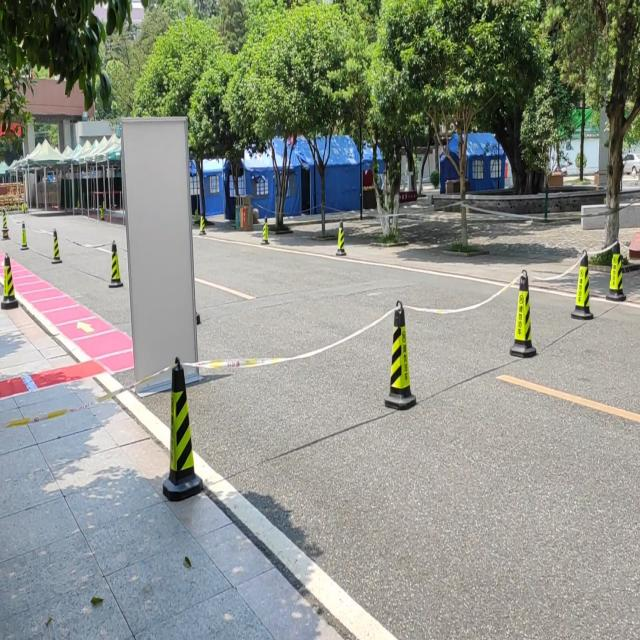ash bin: (234, 192, 254, 231)
car: (621, 150, 640, 175)
reflective_cone: (160, 356, 203, 500), (382, 299, 418, 410), (508, 266, 538, 356), (570, 248, 594, 320), (604, 237, 626, 301), (1, 251, 18, 308), (107, 239, 124, 288), (335, 217, 347, 256), (51, 227, 63, 264), (260, 212, 270, 245), (20, 220, 29, 250), (198, 210, 206, 234), (99, 203, 105, 221)
